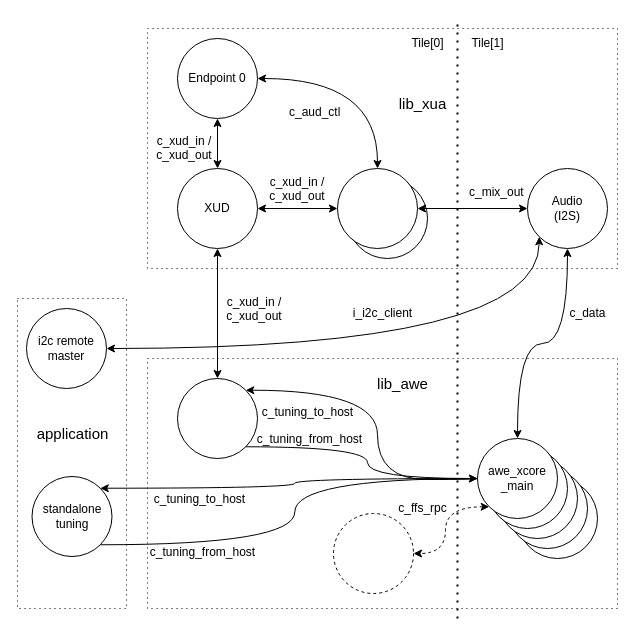
Image size: 635x637. Some labels were removed from this diagram. The shapes that lost their labels are listed below. From the top down, each one's centre as x and y in pixels, then its label:
the point at 377,208: Decouple and Buffer
the point at 217,418: awe_usb_hid
the point at 373,553: Flash File System server (optional)
